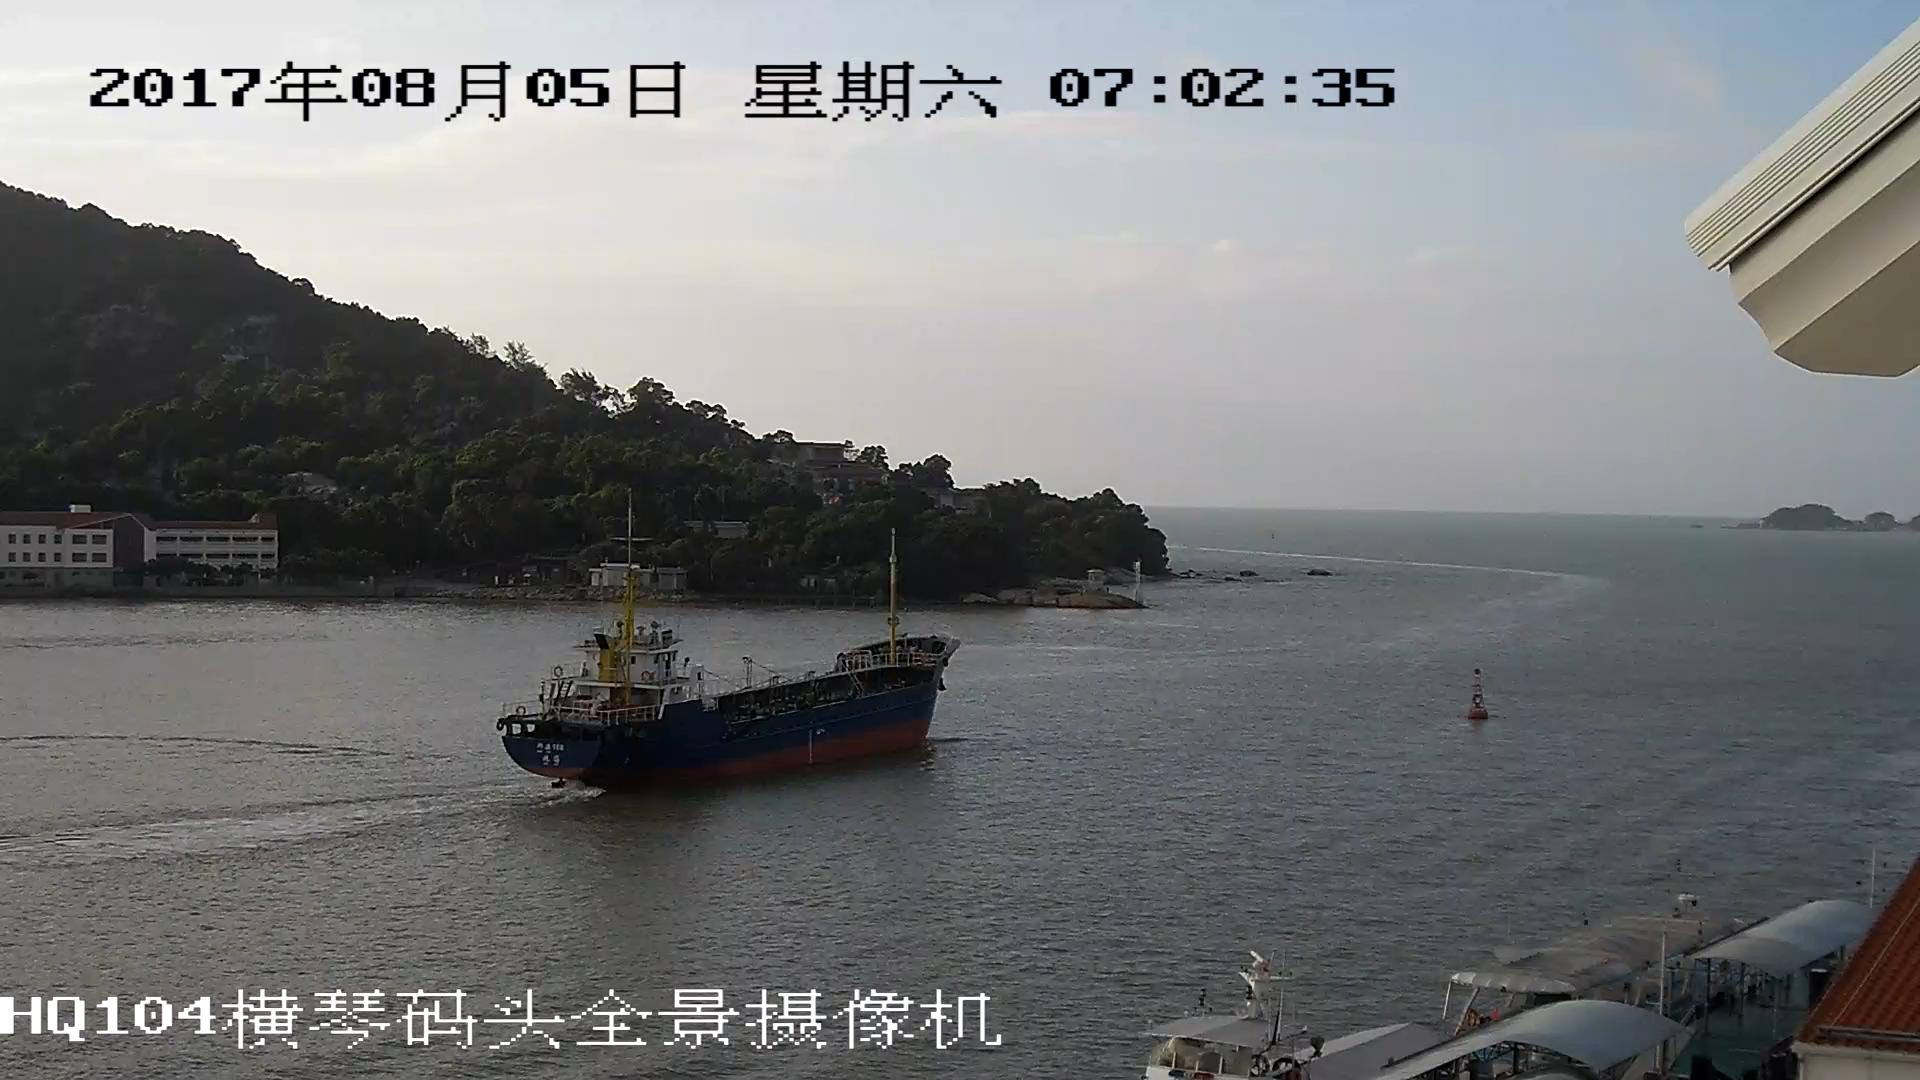general cargo ship: (498, 527, 957, 790)
